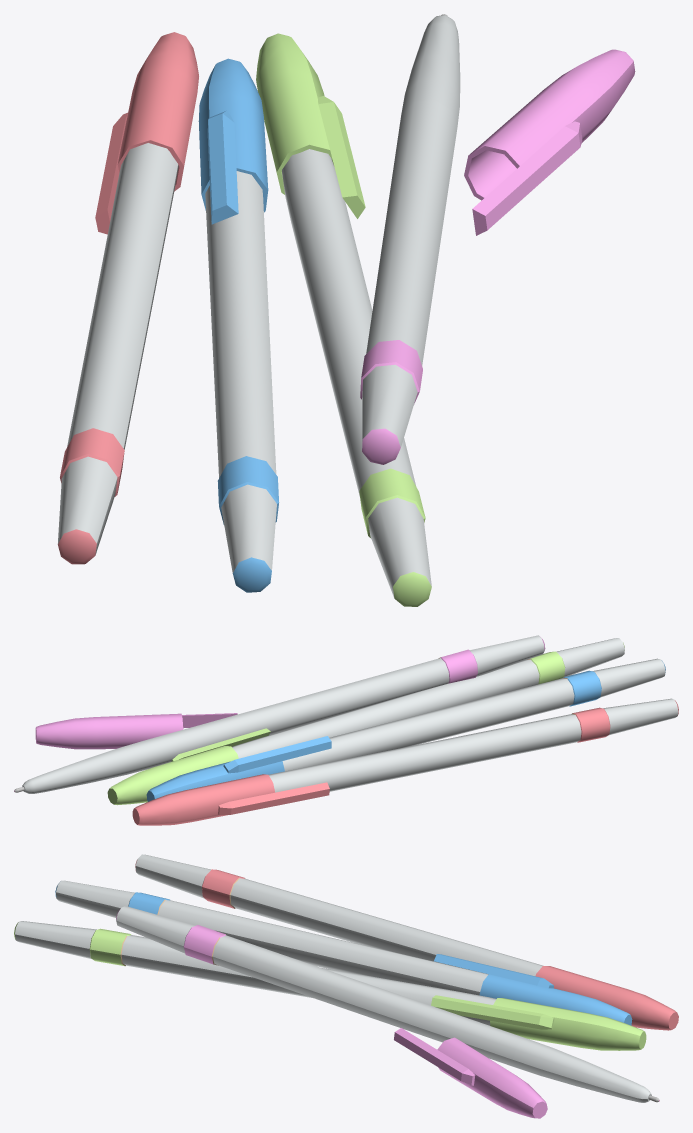
File: 볼펜들_풍경.fbx
The picture shows the model from 3 angles, top to bottom: view 1: azimuth 30°, elevation 25°; view 2: azimuth 150°, elevation 25°; view 3: azimuth 270°, elevation 25°; orthographic projection. The views are drawn at different scales.
Visible parts, largest first — view 1: pen.002, pen.001, pen.004, pen.003, hood_01.002, hood_01.003, hood_01.001, hood_01.004; view 2: pen.002, pen.001, pen.004, pen.003, hood_01.001, hood_01.002, hood_01.004, hood_01.003; view 3: pen.002, pen.001, pen.004, pen.003, hood_01.003, hood_01.002, hood_01.004, hood_01.001.
Part boxes in pixels (box(x1,y1,x2,y2)): pen.002: box(360, 14, 460, 464); pen.001: box(57, 143, 178, 564); pen.004: box(205, 171, 279, 592); pen.003: box(282, 149, 431, 606); hood_01.002: box(464, 49, 635, 235); hood_01.003: box(256, 33, 365, 218); hood_01.001: box(95, 32, 198, 234); hood_01.004: box(198, 58, 268, 224); pen.002: box(14, 635, 545, 793); pen.001: box(268, 698, 678, 792); pen.004: box(282, 658, 665, 771); pen.003: box(232, 638, 624, 758); hood_01.001: box(132, 774, 329, 825); hood_01.002: box(35, 713, 237, 749); hood_01.004: box(146, 736, 331, 801); hood_01.003: box(107, 728, 270, 805); pen.002: box(116, 906, 659, 1102); pen.001: box(135, 854, 543, 975); pen.004: box(55, 880, 488, 995); pen.003: box(14, 921, 496, 1025); hood_01.003: box(431, 995, 646, 1050); hood_01.002: box(394, 1028, 547, 1118); hood_01.004: box(434, 954, 632, 1025); hood_01.001: box(535, 966, 678, 1030).
Size of the model in its own units: 1442 by 150 by 1640.
